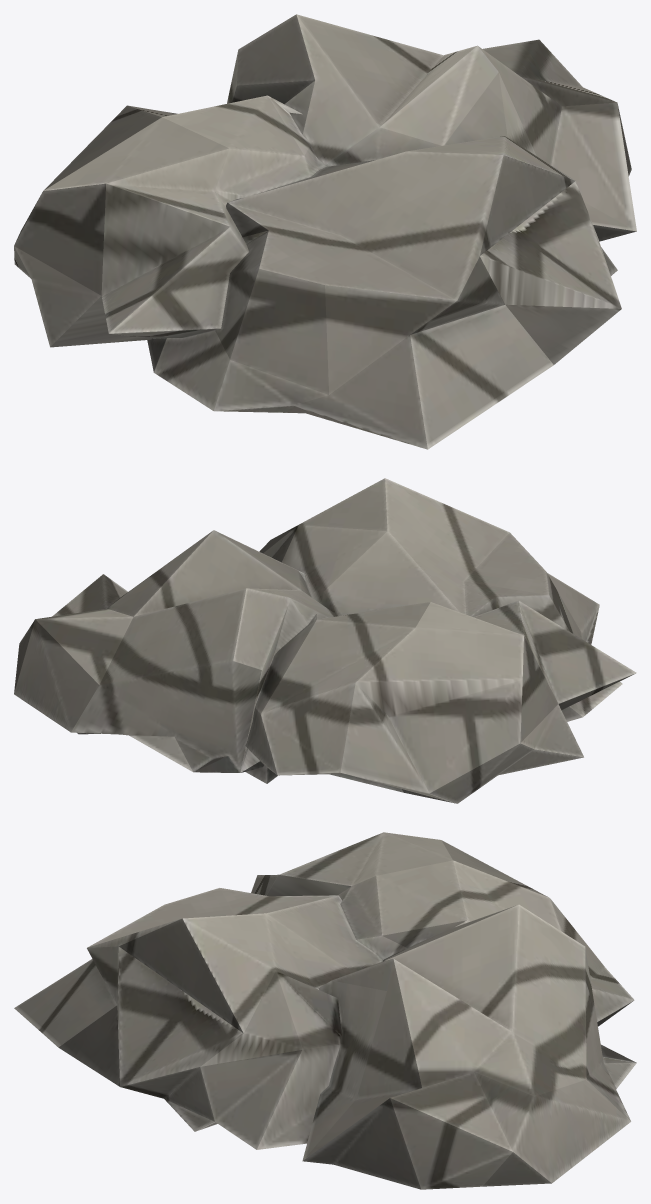
Rendered from rocks.glb.
3 views of the same model, one above another, from view 1: azimuth 30°, elevation 25°; view 2: azimuth 150°, elevation 25°; view 3: azimuth 270°, elevation 25° (orthographic). The views are drawn at different scales.
Parts seen in each view (by area): view 1: rocks; view 2: rocks; view 3: rocks.
Boxes of the visible parts, x1=… form: rocks: x1=14, y1=14, x2=636, y2=449; rocks: x1=14, y1=478, x2=636, y2=803; rocks: x1=14, y1=832, x2=636, y2=1189.
Size of the model in its own units: 2.3 by 0.6819 by 2.25.
Materials: 1 (1 with a texture image).
